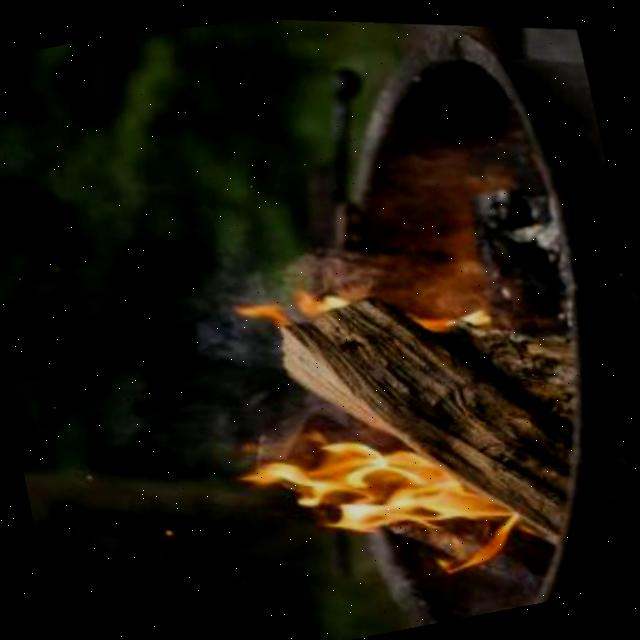fire: (227, 377, 541, 606), (211, 227, 497, 388)
